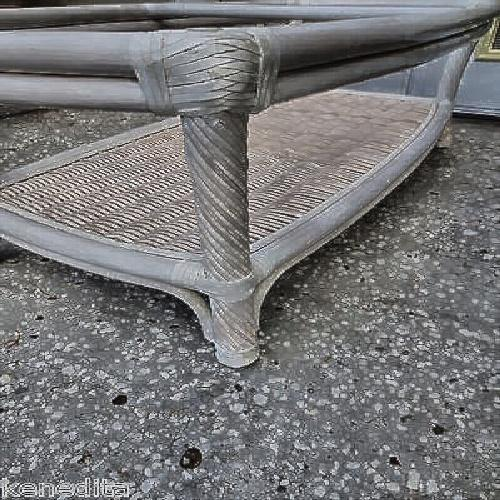table: (21, 18, 440, 297)
